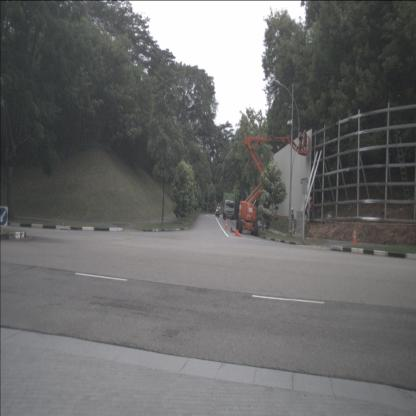cone: (352, 229, 358, 244), (230, 226, 237, 233), (235, 230, 241, 236), (225, 219, 228, 230)
